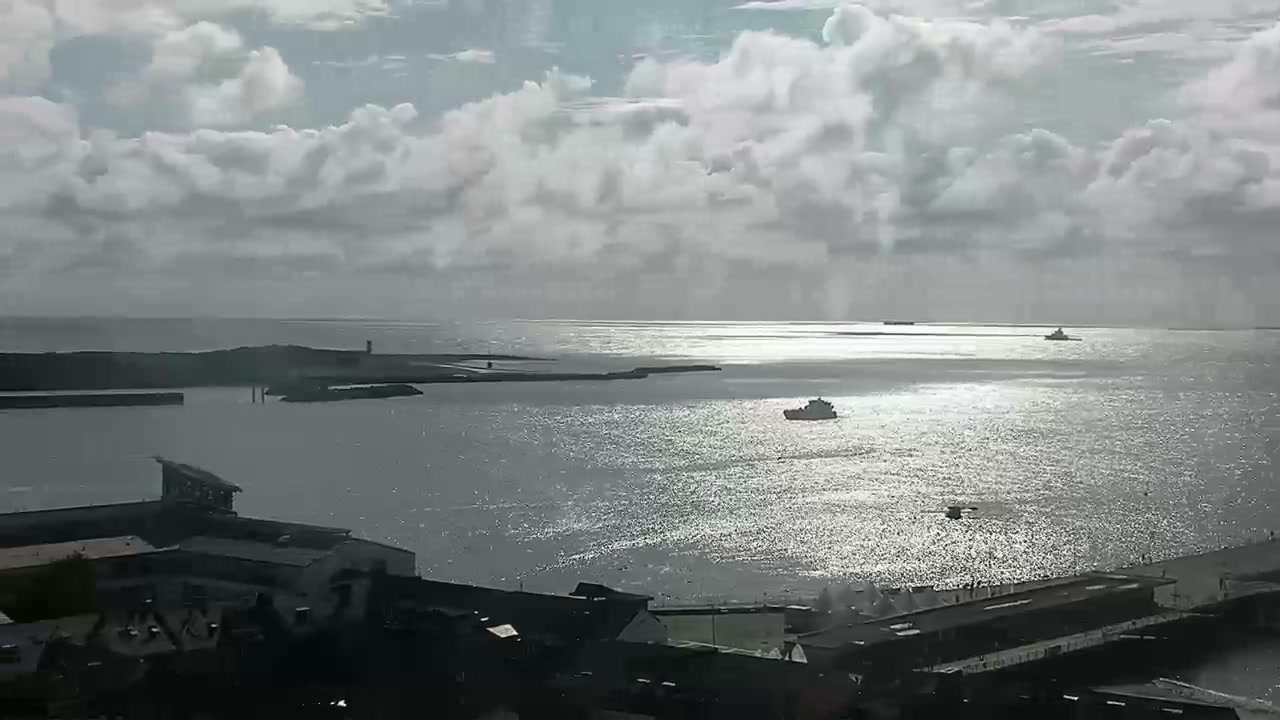sea: (782, 395, 837, 420), (1042, 326, 1082, 341)
